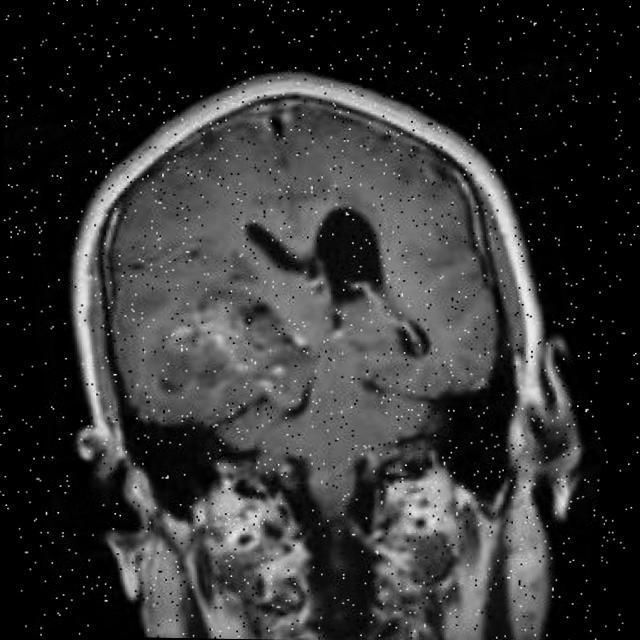EMCI: (170, 266, 374, 424)
